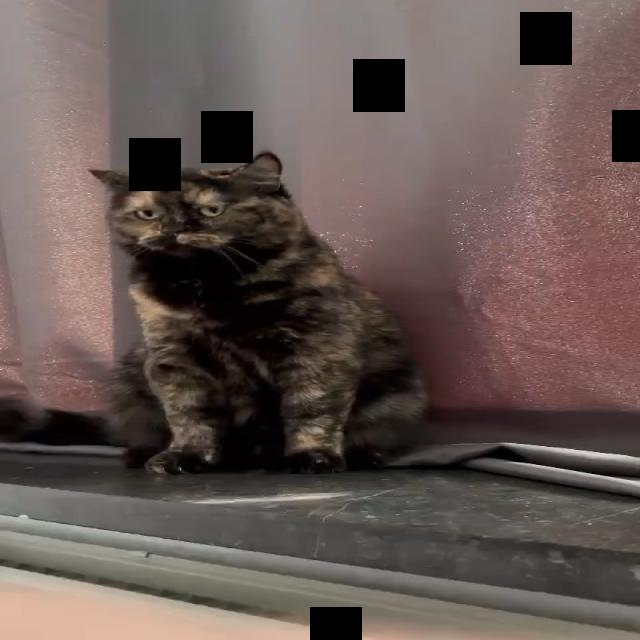authorized: (87, 150, 429, 476)
